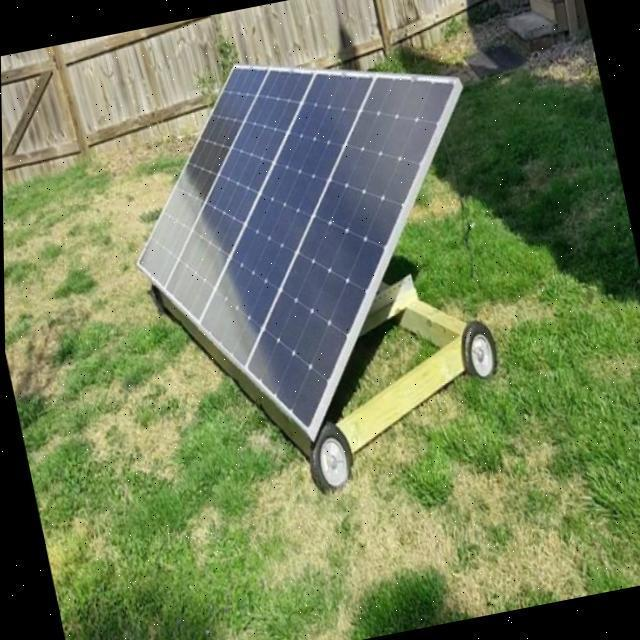Normal Solar Panel: (100, 22, 522, 458)
